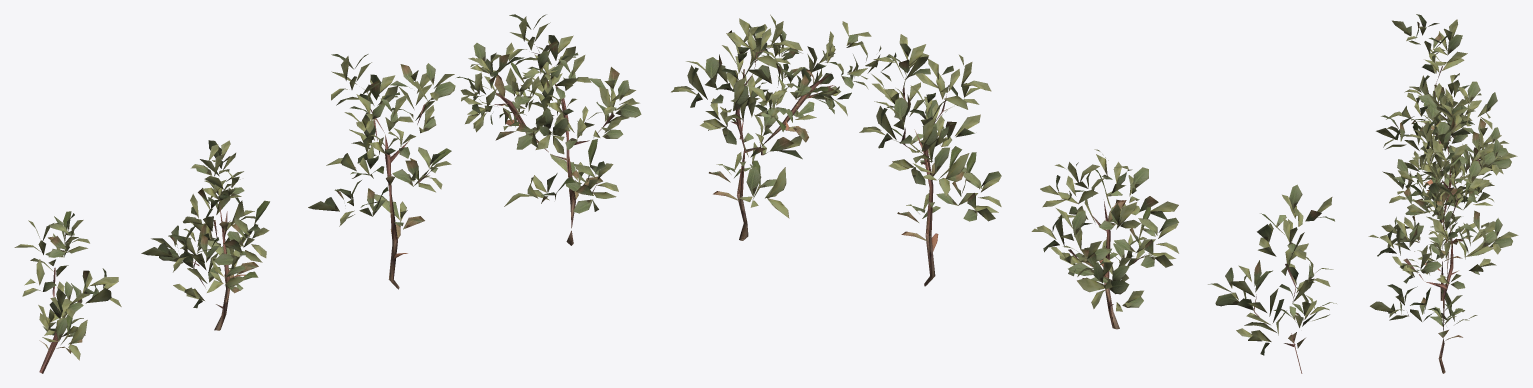
Rendered from shrub_b.glb.
3 views of the same model, side by side, from view 1: azimuth 30°, elevation 25°; view 2: azimuth 150°, elevation 25°; view 3: azimuth 270°, elevation 25° (orthographic). The views are drawn at different scales.
Visible parts, largest first — view 1: shrub_04; view 2: shrub_04; view 3: shrub_04.
Boxes of the visible parts, x1,y1,x2,y2 form: shrub_04: [14, 14, 641, 373]; shrub_04: [671, 14, 1336, 373]; shrub_04: [1368, 14, 1518, 373].
Size of the model in its own units: 0.5837 by 0.2185 by 0.1461.
Materials: 1 (1 with a texture image).
